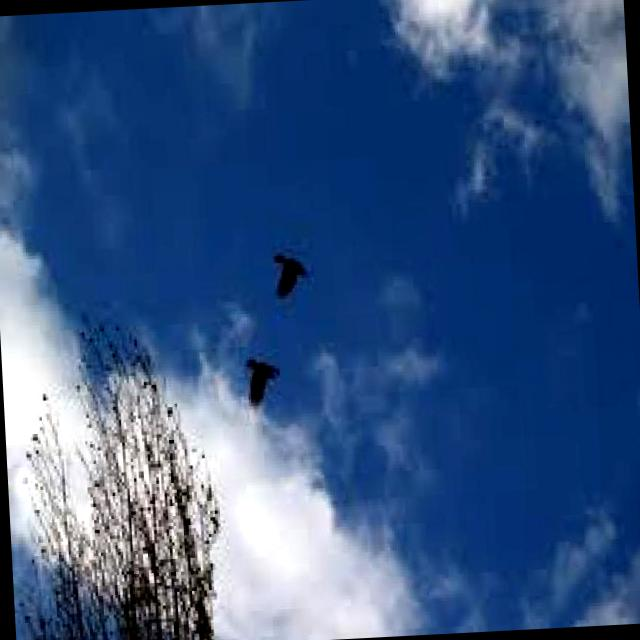bird: (230, 338, 306, 433), (263, 232, 325, 311)
